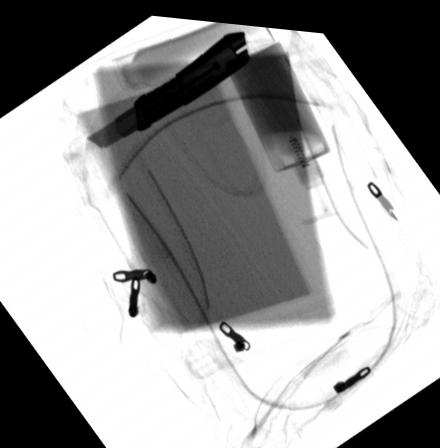Knife: (84, 24, 251, 147)
